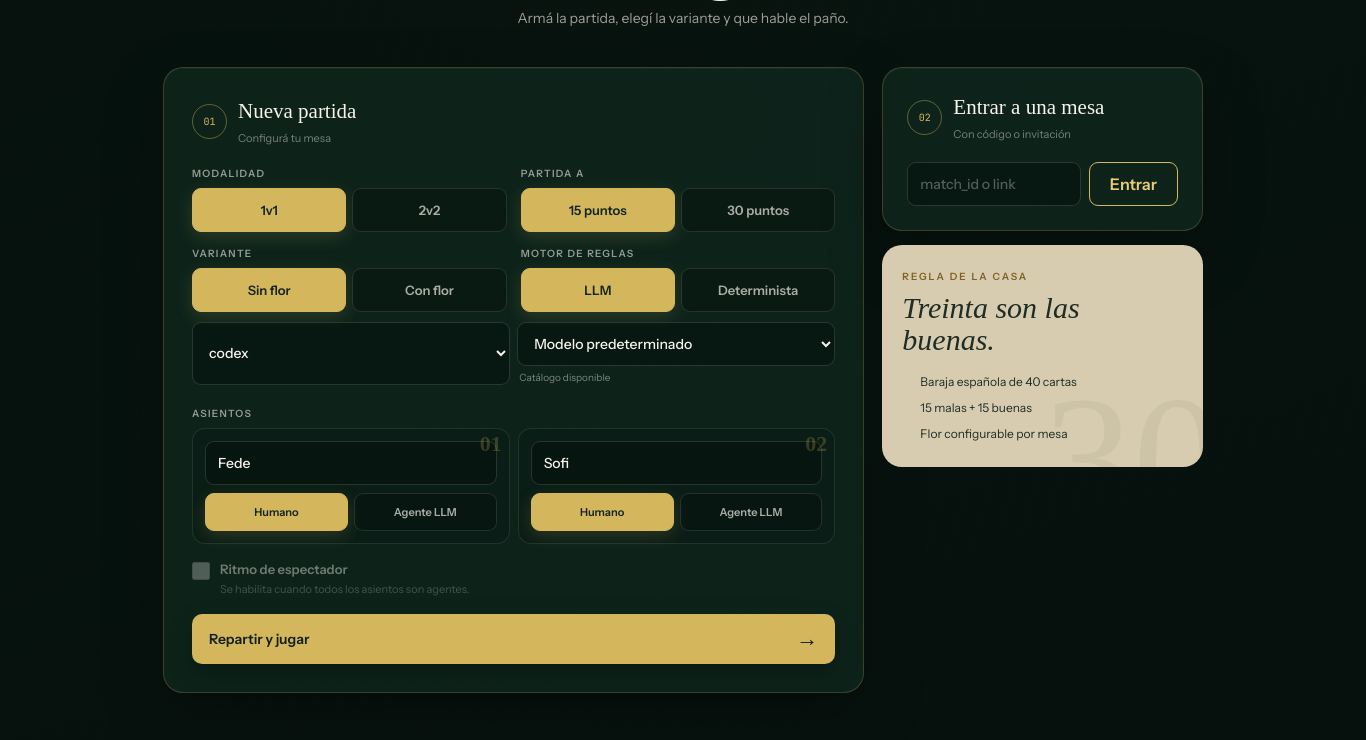
Scenario: muestra modelos Codex desde el inicio y excluye mock de agentes
(page scrolled)
Click the button with test id "seat-0-kind-agent".
click(425, 512)  # box [354,493,497,531]
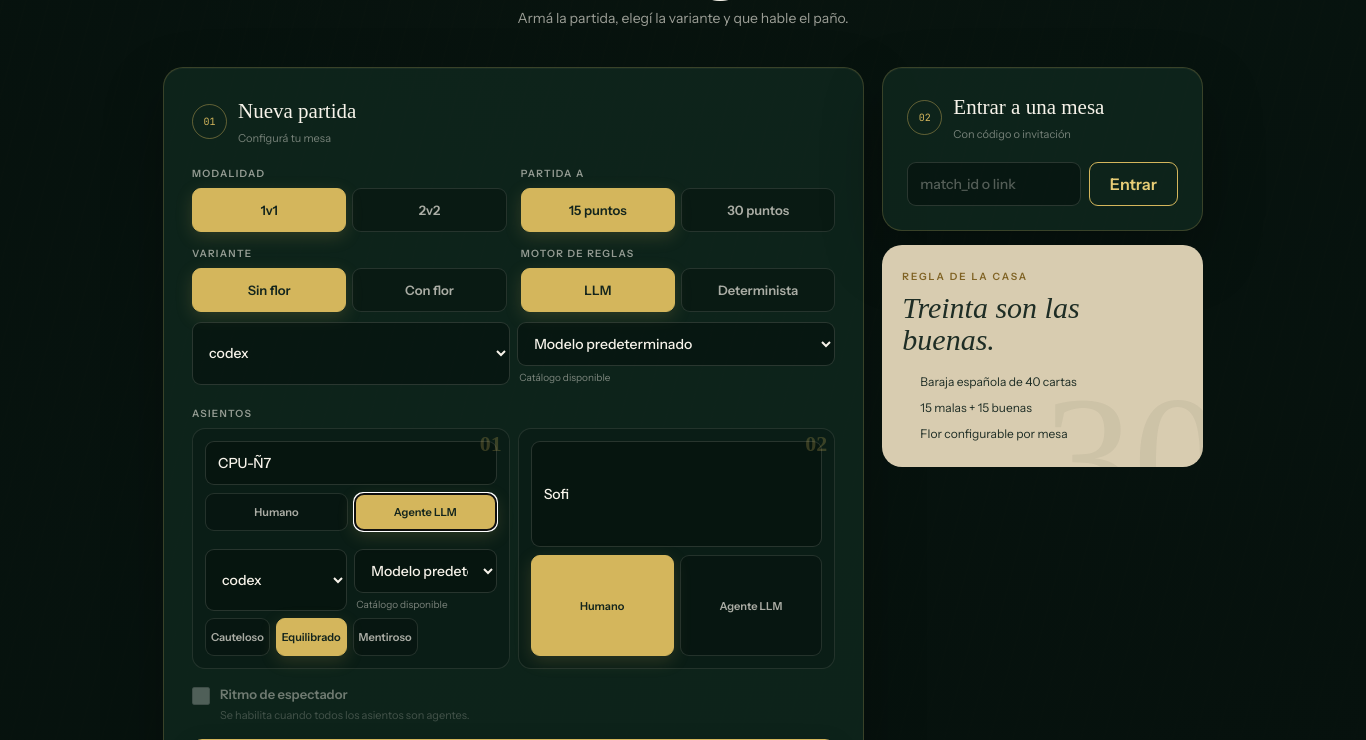
Expected: the dropdown with test id "seat-0-provider" shows "codex", [205,549,347,611]
